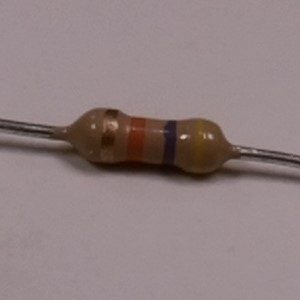gold_band: (98, 106, 121, 168)
orange_band: (124, 115, 149, 165)
violet_band: (157, 117, 179, 171)
yellow_band: (190, 116, 207, 176)
